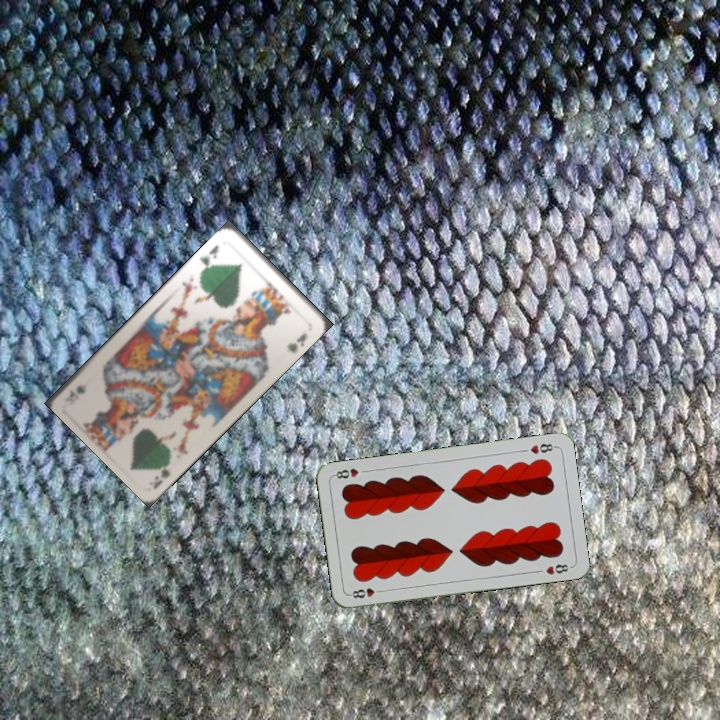GK: (149, 452, 175, 491), (195, 241, 222, 273)
H8: (346, 584, 387, 601), (526, 439, 558, 457)
